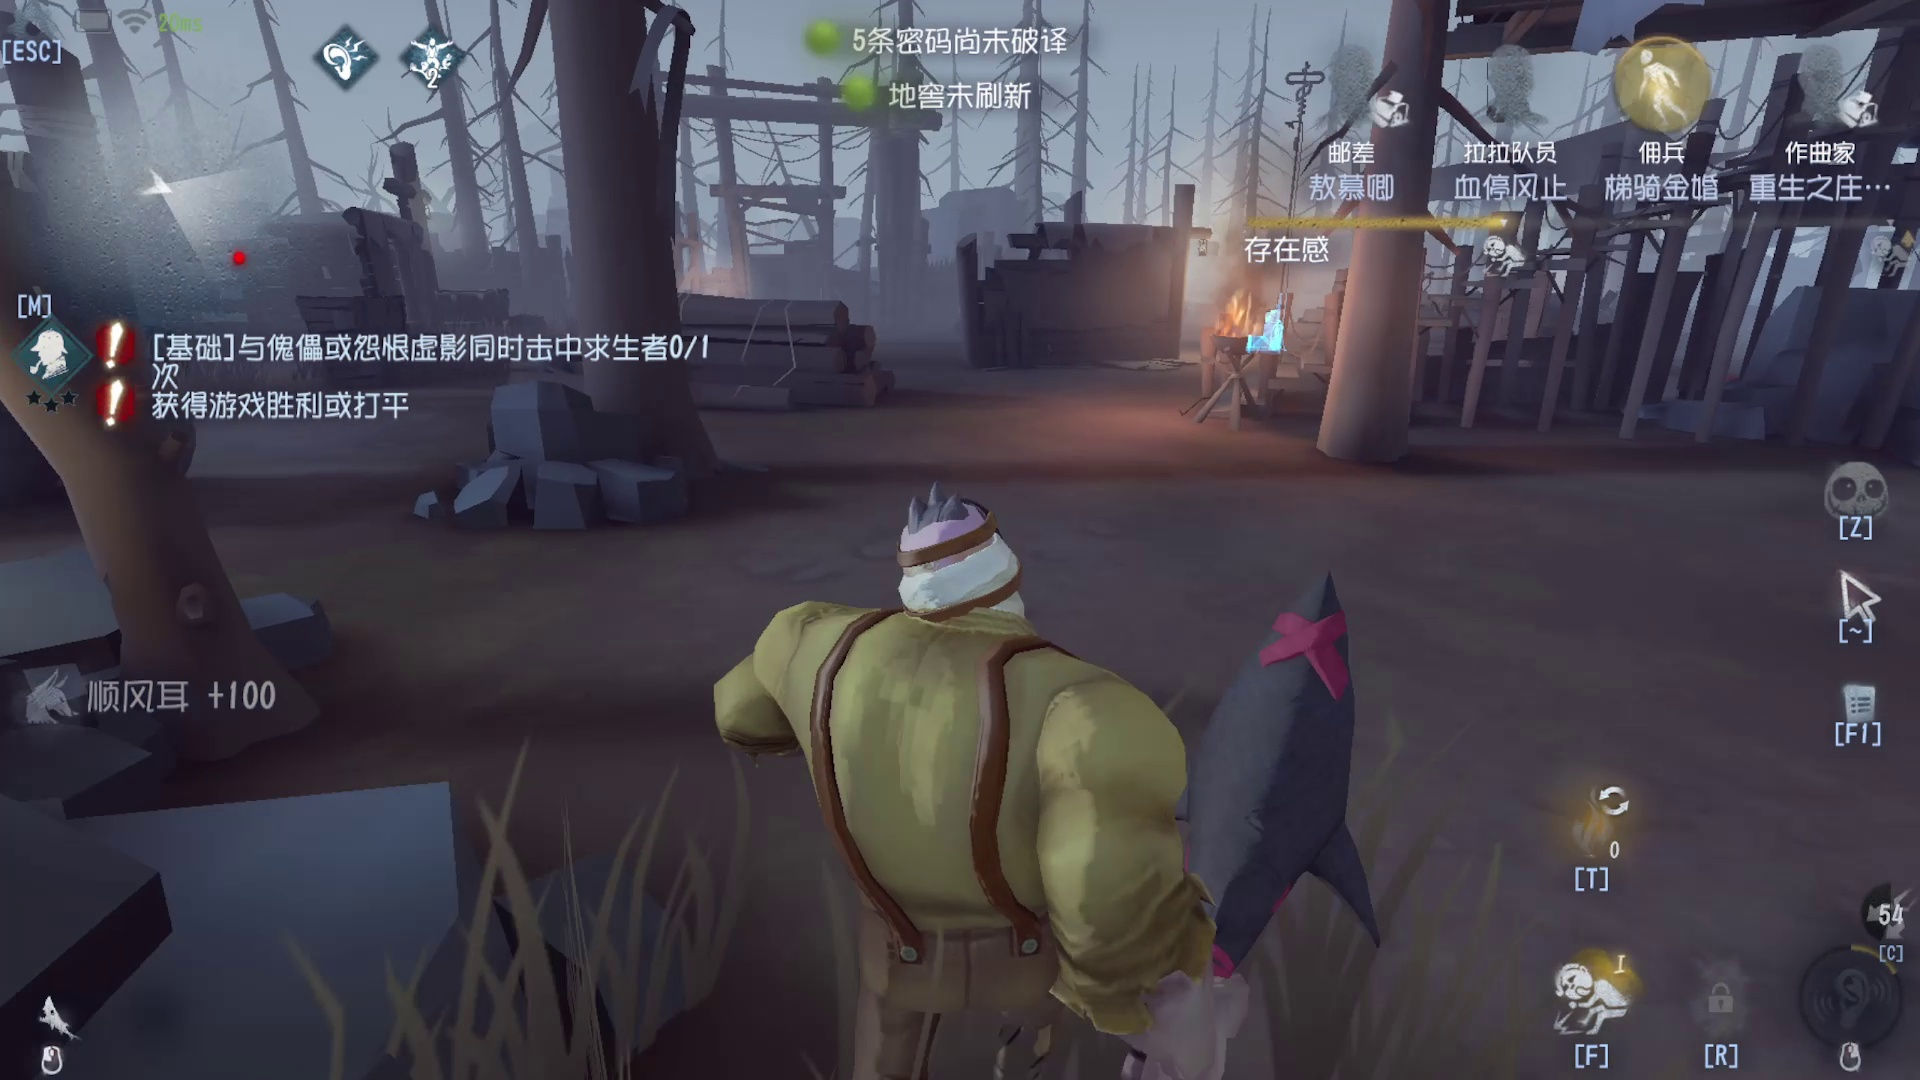密码机: (1254, 57, 1312, 377)
